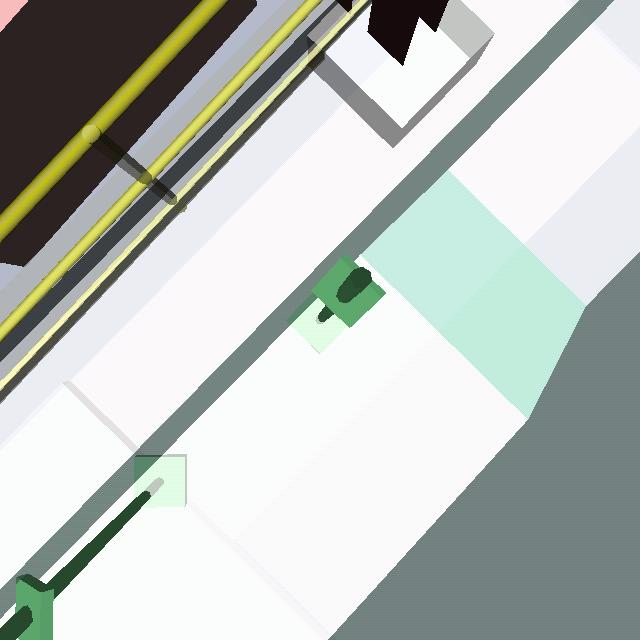Poste: (288, 250, 392, 355)
